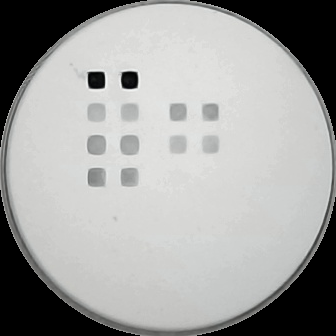检查点: (85, 131, 109, 157), (118, 133, 141, 157), (200, 133, 222, 157), (168, 134, 190, 158), (119, 165, 141, 189), (86, 102, 109, 124), (119, 101, 142, 123), (168, 102, 191, 123), (87, 166, 108, 189), (86, 69, 107, 91), (119, 69, 140, 91), (201, 102, 222, 123)
